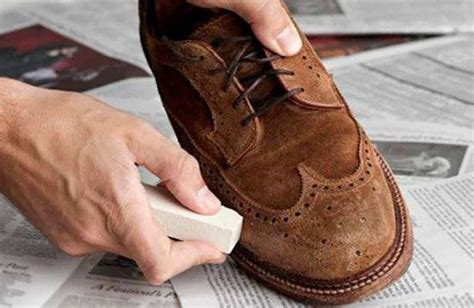gamuza: (144, 1, 364, 205)
